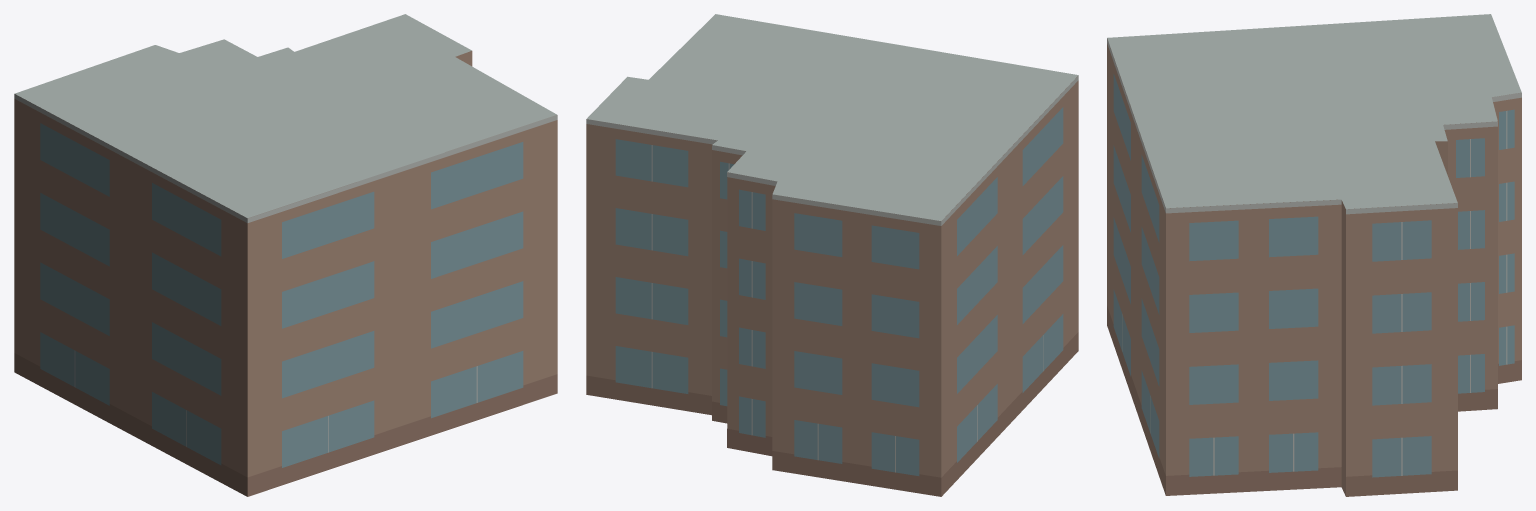
The model's file is survey-upis-32463767.glb.
3 views of the same model, side by side, from view 1: azimuth 30°, elevation 25°; view 2: azimuth 150°, elevation 25°; view 3: azimuth 270°, elevation 25° (orthographic). The views are drawn at different scales.
Parts seen in each view (by area): view 1: survey-upis-32463767.tmp; view 2: survey-upis-32463767.tmp; view 3: survey-upis-32463767.tmp.
Boxes of the visible parts, x1,y1,x2,y2 form: survey-upis-32463767.tmp: [14, 14, 557, 496]; survey-upis-32463767.tmp: [586, 14, 1078, 496]; survey-upis-32463767.tmp: [1107, 14, 1521, 496].
Bounding box in the file's own units: 19.95 × 13.7 × 17.91.
